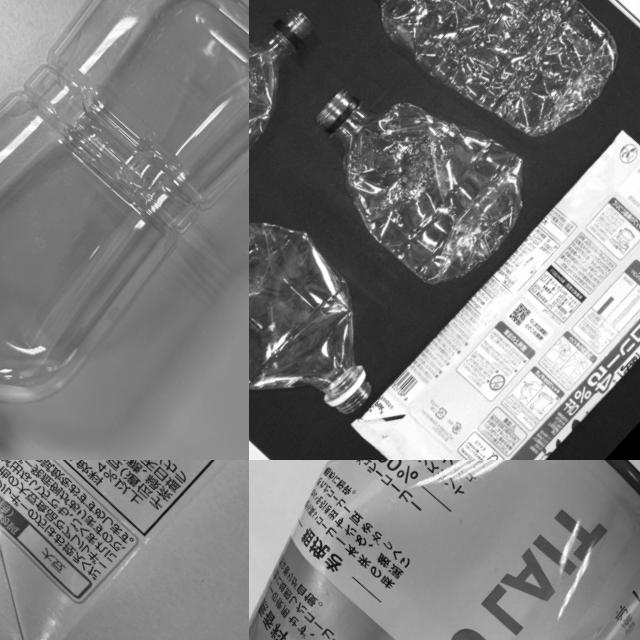Aluminium Foil: (348, 140, 640, 460), (0, 460, 249, 640)
Can: (249, 460, 640, 640)
Transparent Plastic Bottle: (0, 0, 249, 460), (274, 36, 548, 305), (327, 0, 634, 172), (249, 189, 420, 460), (249, 0, 342, 269)
